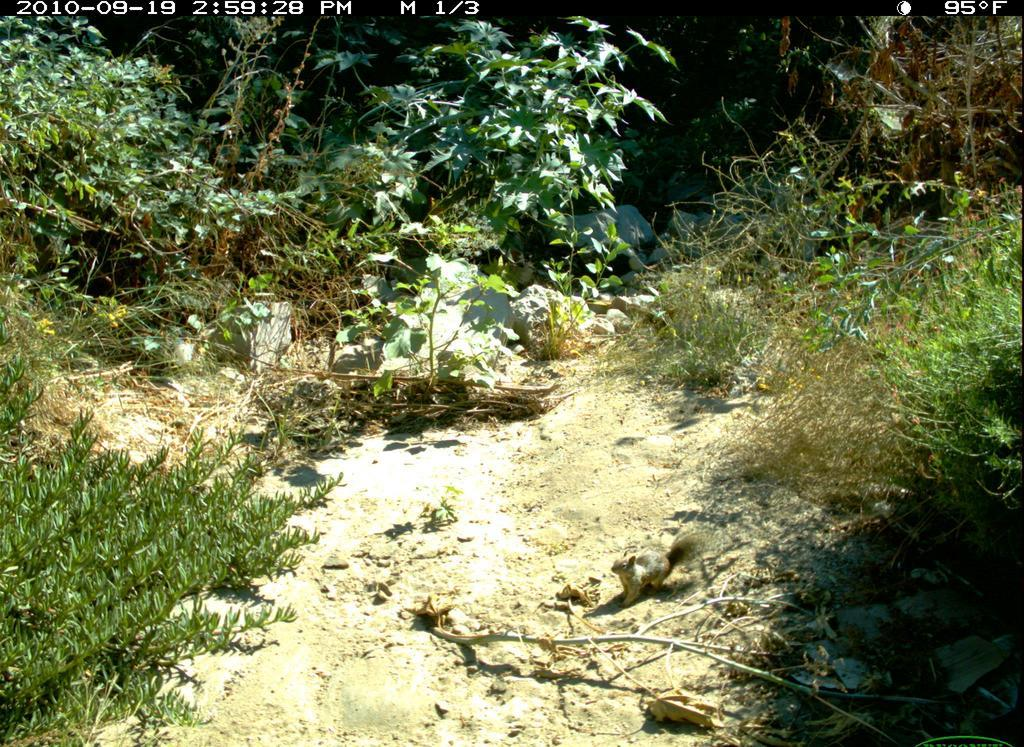squirrel: (602, 523, 717, 619)
